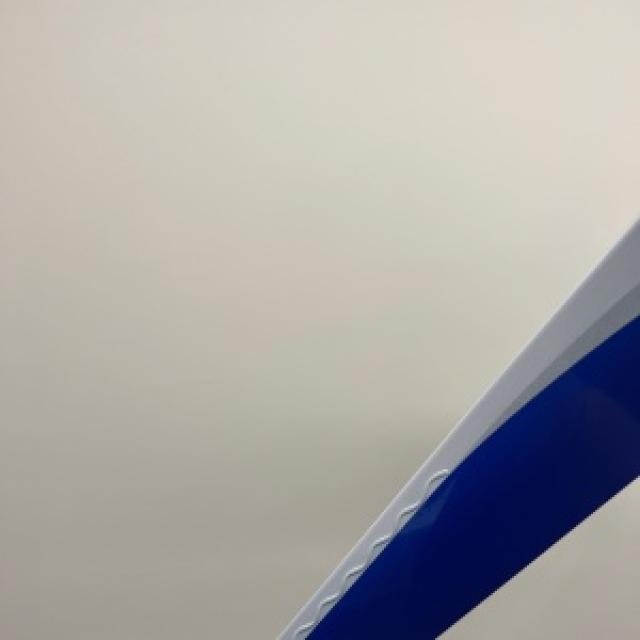healthy: (275, 218, 638, 638)
